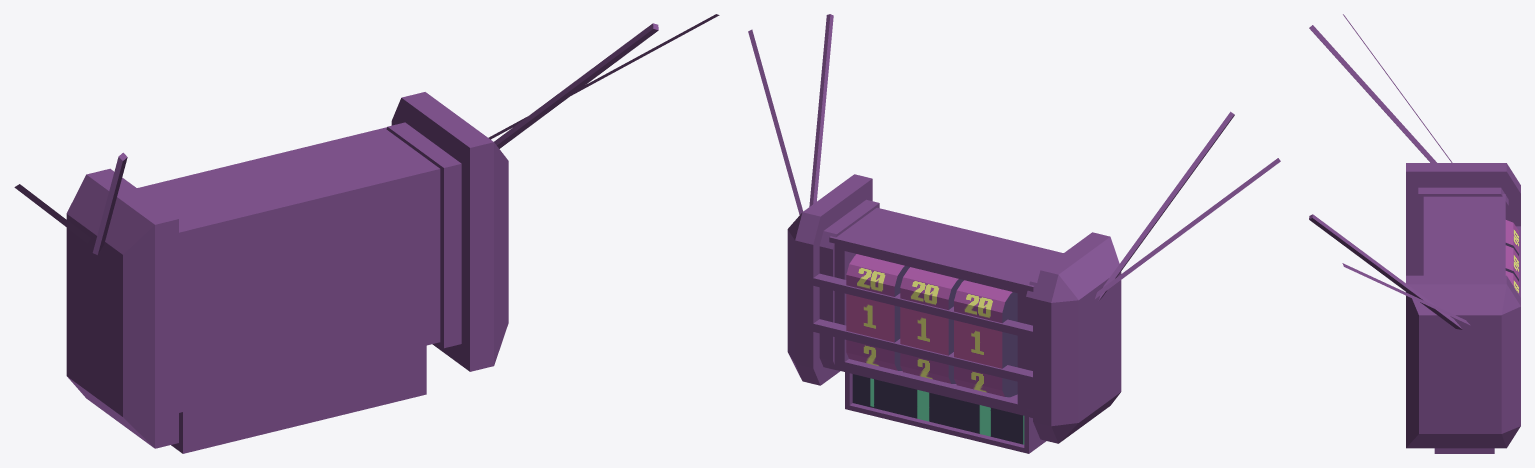
The model's file is slotMachine.glb.
The picture shows the model from 3 angles, left to right: view 1: azimuth 30°, elevation 25°; view 2: azimuth 150°, elevation 25°; view 3: azimuth 270°, elevation 25°; orthographic projection. The views are drawn at different scales.
Parts seen in each view (by area): view 1: Frame_Reel, Frame_Slot, Wire; view 2: Frame_Slot, Frame_Reel, Reel_Right, Reel_Left, Wire, Reel_Center; view 3: Frame_Slot, Frame_Reel, Wire, Reel_Center, Reel_Right.
Boxes of the visible parts, box(x1,y1,x2,y2) form: Frame_Reel: box(137, 127, 440, 453); Frame_Slot: box(66, 92, 508, 448); Wire: box(14, 14, 719, 254); Frame_Slot: box(787, 174, 1121, 443); Frame_Reel: box(829, 207, 1063, 453); Reel_Right: box(954, 280, 1017, 397); Reel_Left: box(846, 254, 909, 370); Wire: box(748, 14, 1280, 300); Reel_Center: box(900, 267, 963, 383); Frame_Slot: box(1406, 163, 1520, 448); Frame_Reel: box(1423, 194, 1505, 453); Wire: box(1309, 14, 1470, 329); Reel_Center: box(1505, 245, 1518, 281); Reel_Right: box(1505, 220, 1518, 255).
Size of the model in its own units: 110 by 59.32 by 39.16.
6 materials, 4 textured.
